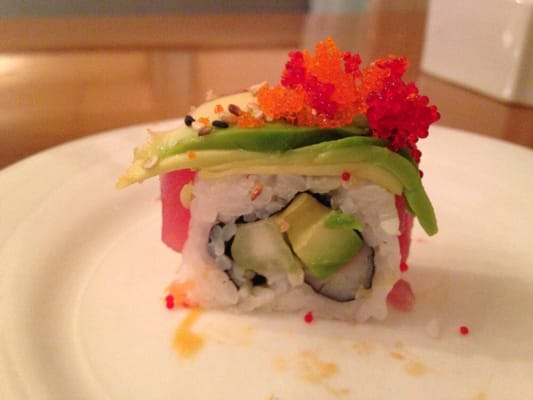soup: (113, 35, 446, 321)
